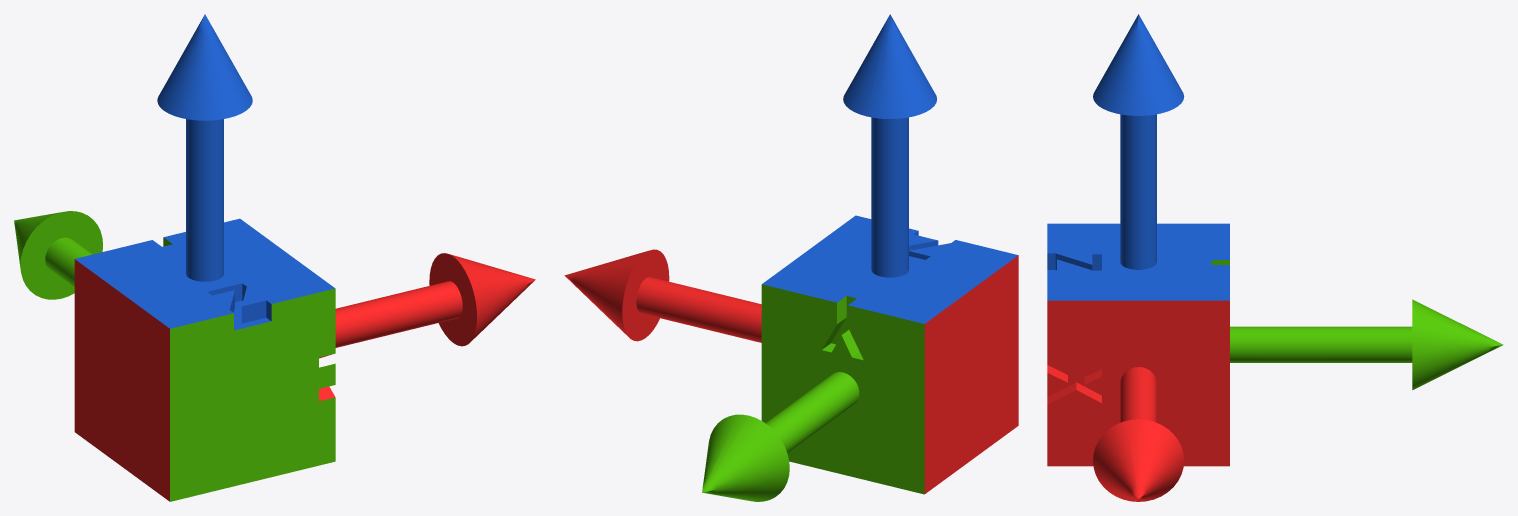
Rendered from axis_gizmo_box.glb.
The picture shows the model from 3 angles, left to right: view 1: azimuth 30°, elevation 25°; view 2: azimuth 150°, elevation 25°; view 3: azimuth 270°, elevation 25°; orthographic projection. The views are drawn at different scales.
Visible parts, largest first — view 1: sw2urdf_d5022f7b-2f9d-46ca-a8ff-4da088a96822; view 2: sw2urdf_d5022f7b-2f9d-46ca-a8ff-4da088a96822; view 3: sw2urdf_d5022f7b-2f9d-46ca-a8ff-4da088a96822.
Part boxes in pixels (box(x1,y1,x2,y2)): sw2urdf_d5022f7b-2f9d-46ca-a8ff-4da088a96822: box(14, 14, 535, 501); sw2urdf_d5022f7b-2f9d-46ca-a8ff-4da088a96822: box(564, 14, 1018, 501); sw2urdf_d5022f7b-2f9d-46ca-a8ff-4da088a96822: box(1047, 14, 1503, 501).
Size of the model in its own units: 0.125 by 0.125 by 0.125.
